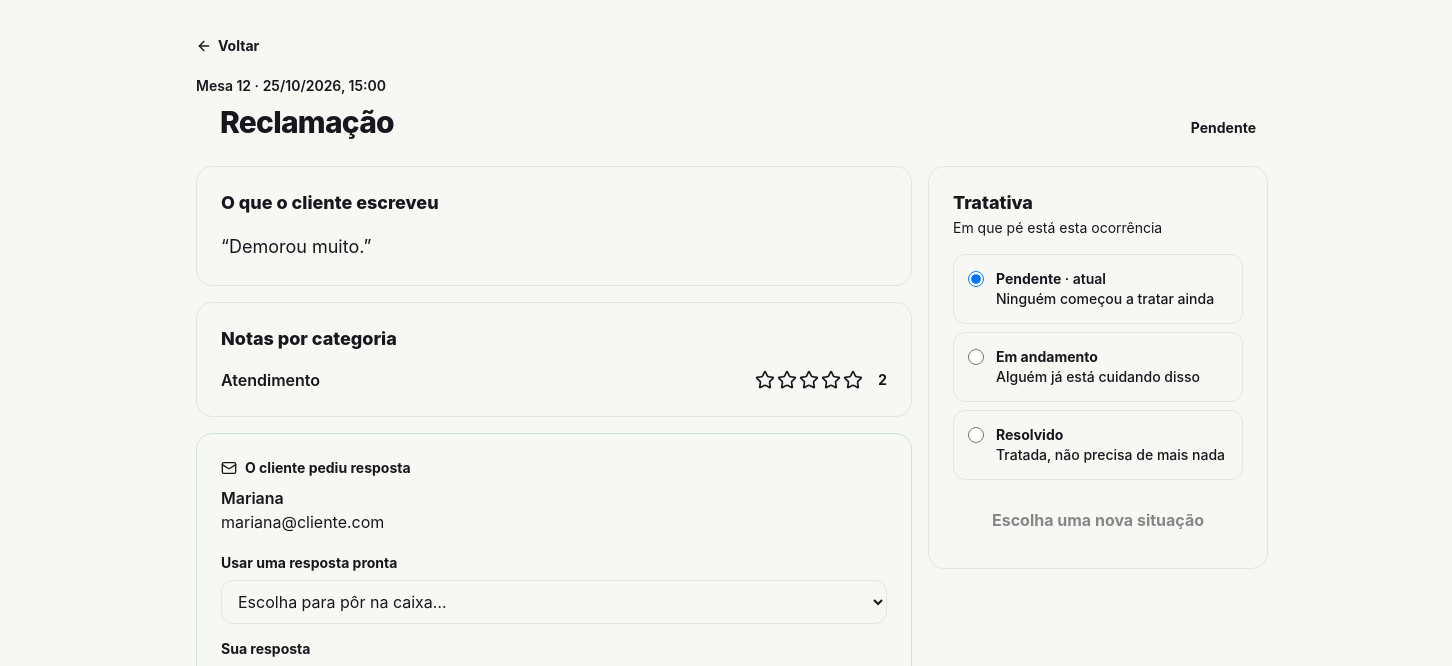
Test: com respostas prontas › o seletor mostra só as ativas; escolher põe o texto depois da saudação e volta o seletor ao começo
Check: the heading "O que o cliente escreveu" is shown, box [221,192,439,213]
Select "Pedido de desculpas" in the dropdown labelled "Usar uma resposta pronta". click: (554, 602)
box: [221,580,887,624]
(page scrolled)
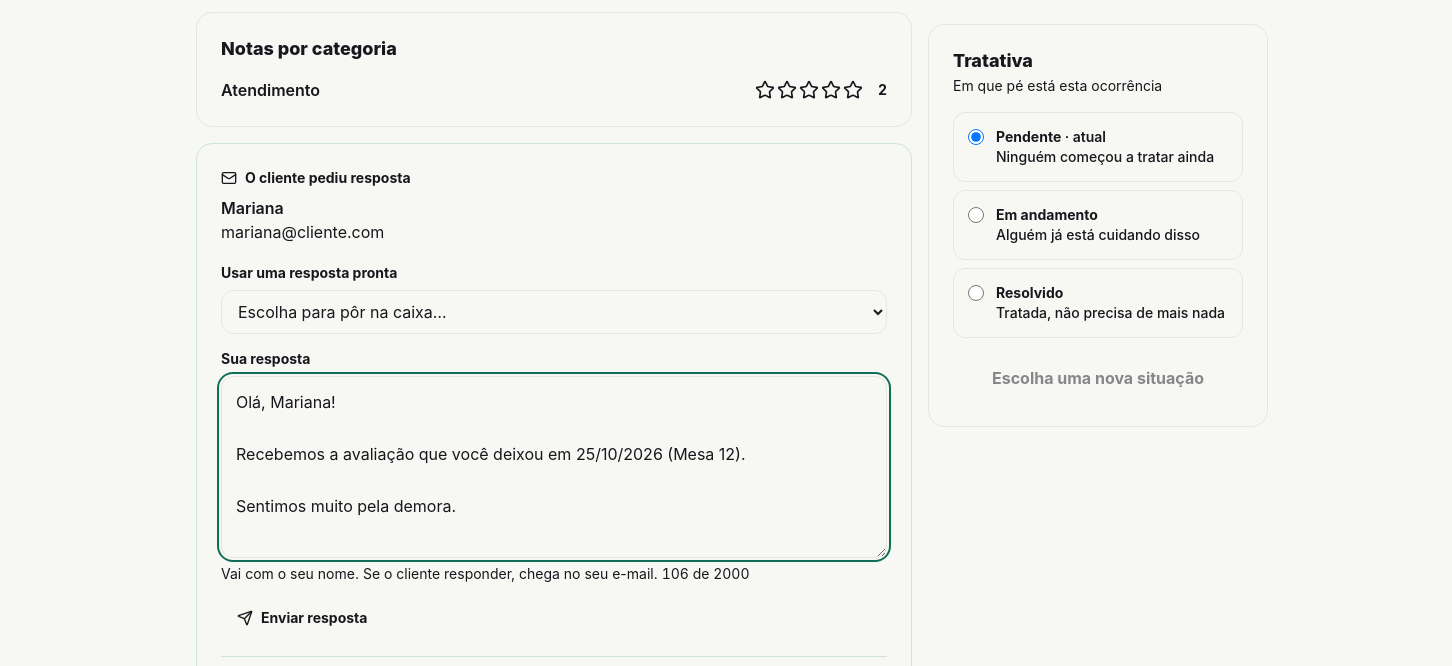
Check: the button "Enviar resposta" is enabled, box [221,596,383,640]
